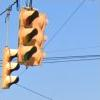traffic lights: (20, 6, 37, 66), (2, 46, 21, 91)
